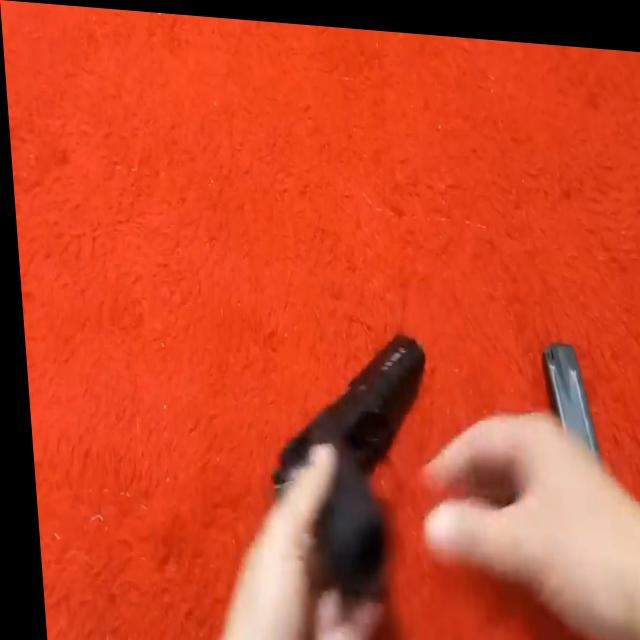handgun: (267, 321, 428, 609)
